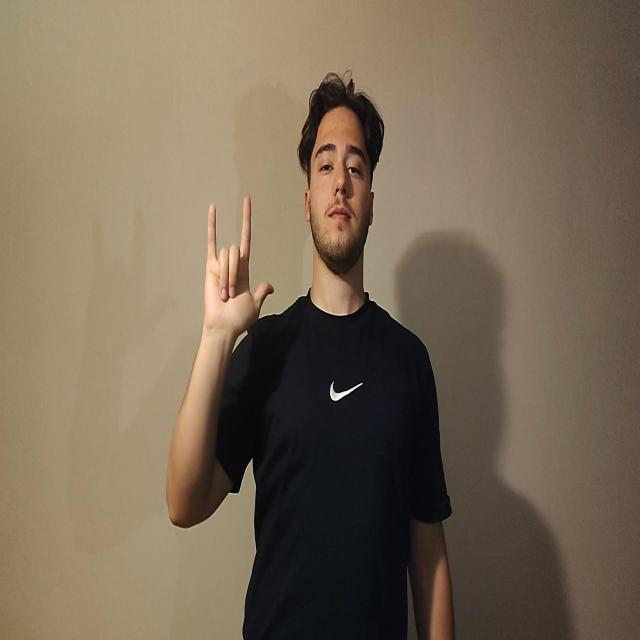iloveyou: (202, 194, 274, 343)
